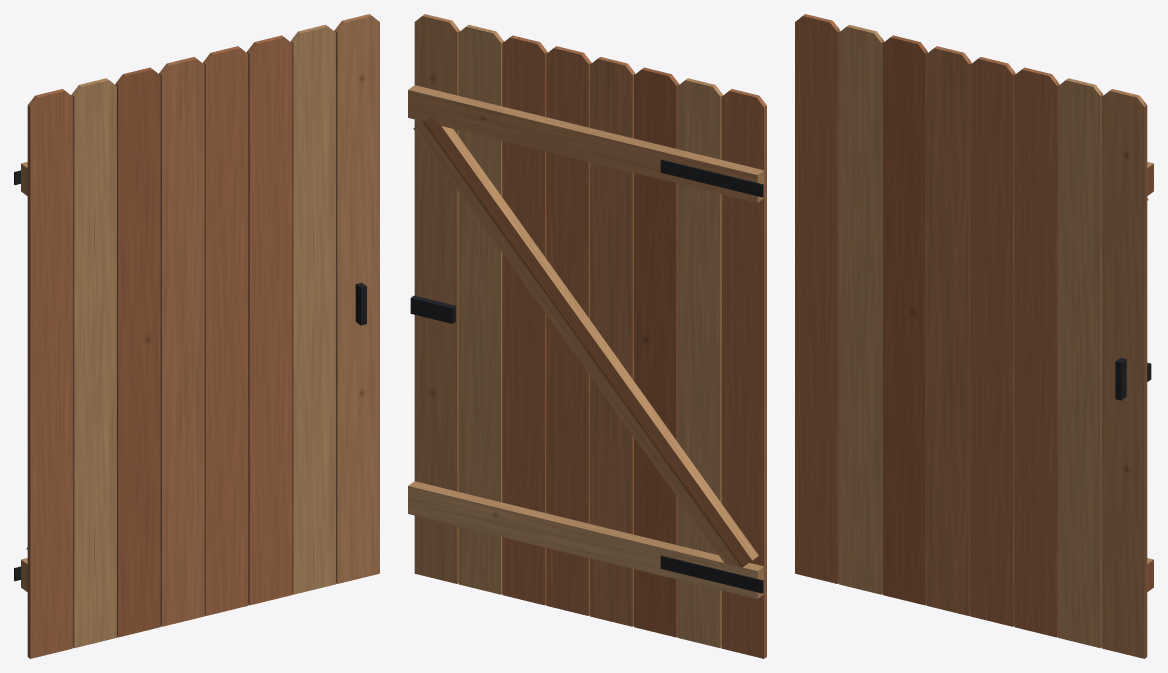
The model's file is fence_privacy_gate.gltf.
3 views of the same model, side by side, from view 1: azimuth 30°, elevation 25°; view 2: azimuth 150°, elevation 25°; view 3: azimuth 330°, elevation 25° (orthographic).
Visible parts, largest first — view 1: fence_privacy_gate; view 2: fence_privacy_gate; view 3: fence_privacy_gate.
Part boxes in pixels (<box>): fence_privacy_gate: <box>14,14,379,658</box>; fence_privacy_gate: <box>408,14,766,658</box>; fence_privacy_gate: <box>795,14,1153,658</box>.
Size of the model in its own units: 1.18 by 1.78 by 0.104.
2 materials, 2 textured.
